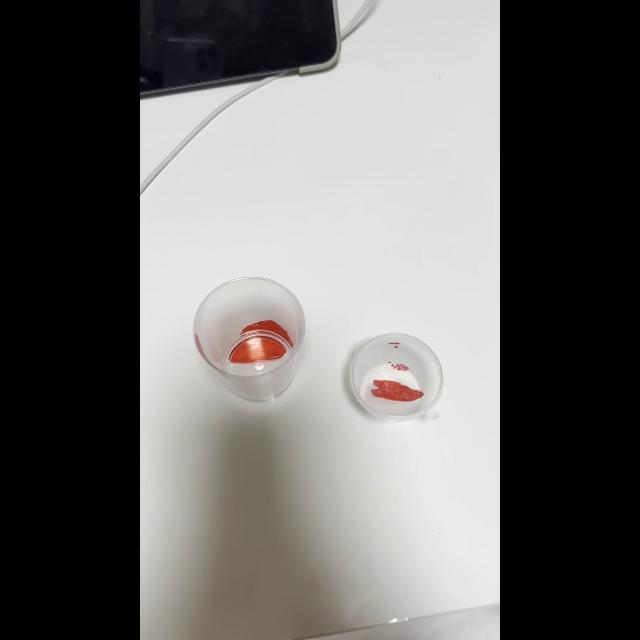dirty: (194, 278, 306, 402), (350, 333, 444, 422)
